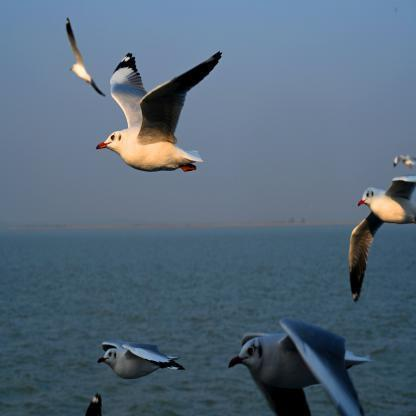bird: (97, 51, 222, 174), (227, 319, 370, 416), (350, 173, 415, 300), (97, 338, 187, 382), (65, 18, 107, 99), (392, 153, 415, 170)
